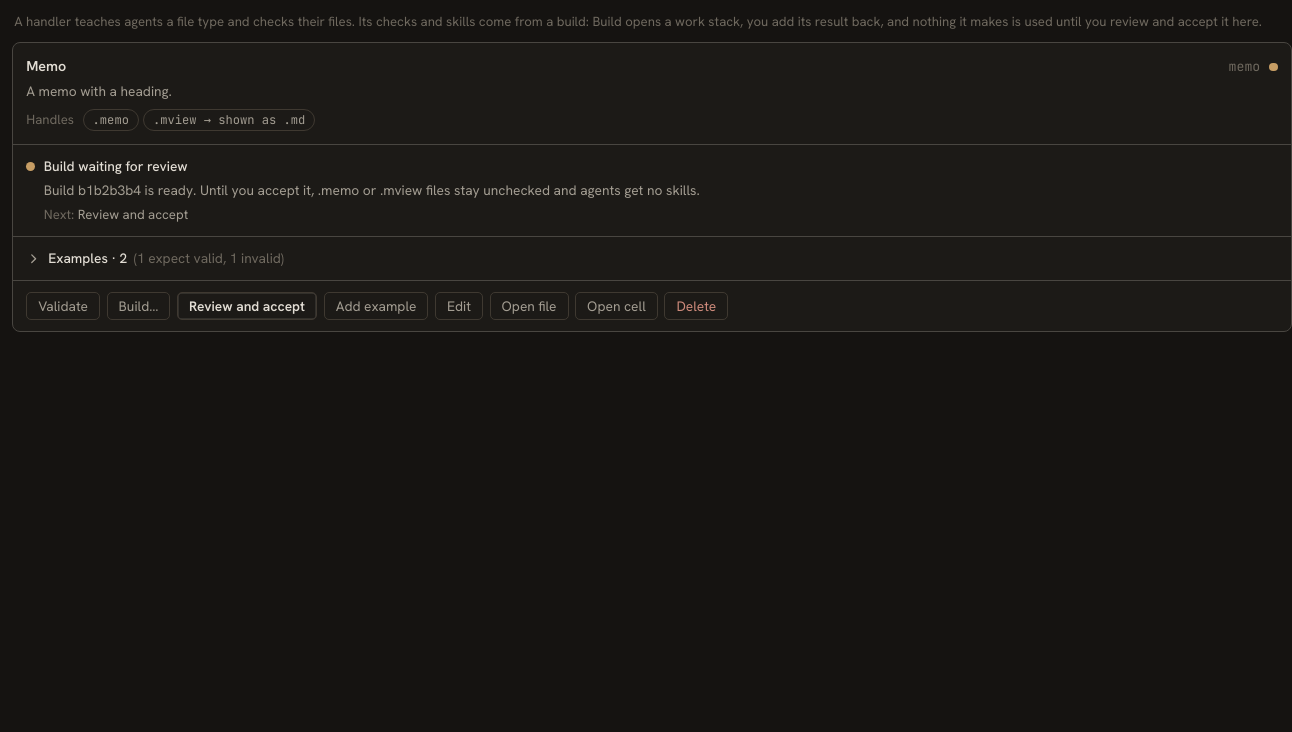
Test: A user handler’s card › Review and accept shows the waiting build and accepts exactly what it inspected
Expected: the element named "Memo handler" is shown, [12,42,1291,332]
Click the button "Review and accept" at (247, 306), box [177,292,317,320]
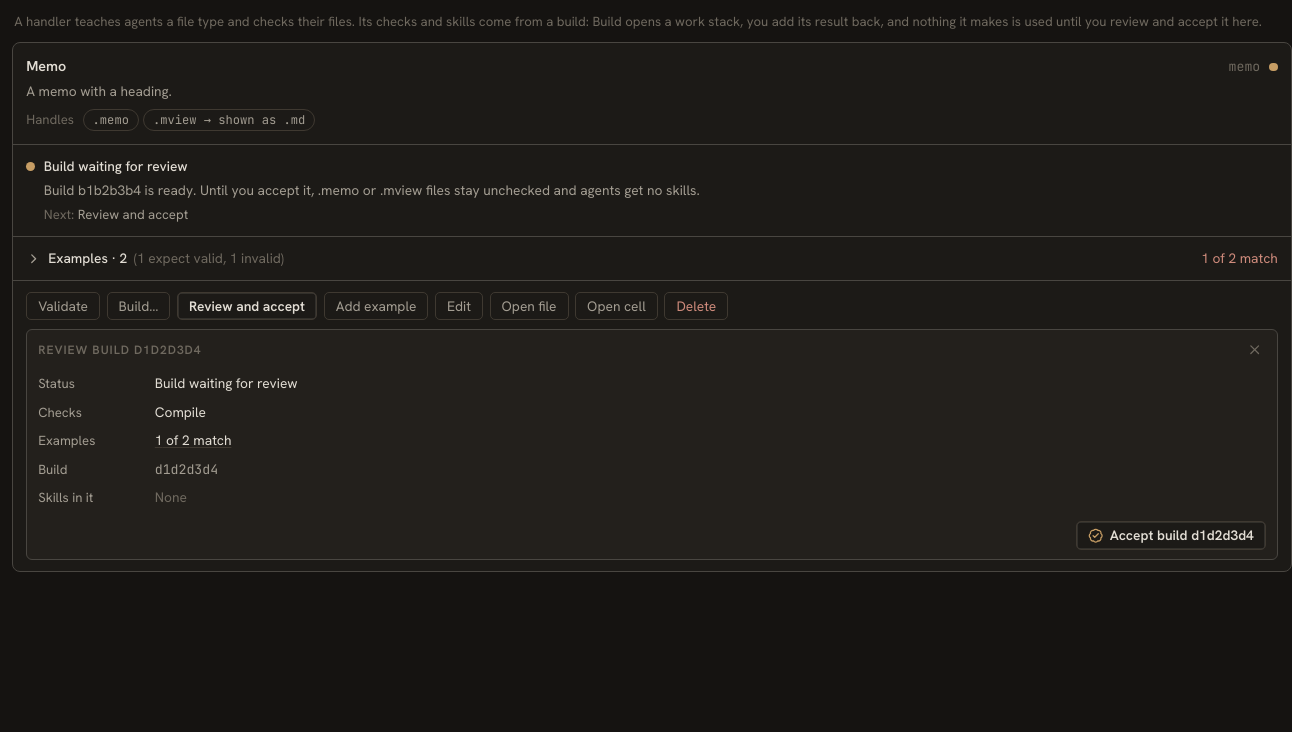
Expected: the text "Build waiting for review" next to "Status" is shown, [155,374,298,392]
Expected: the text "Compile" is shown, [155,402,206,420]
Click the button "1 of 2 match" at (193, 440), box [155,430,231,451]
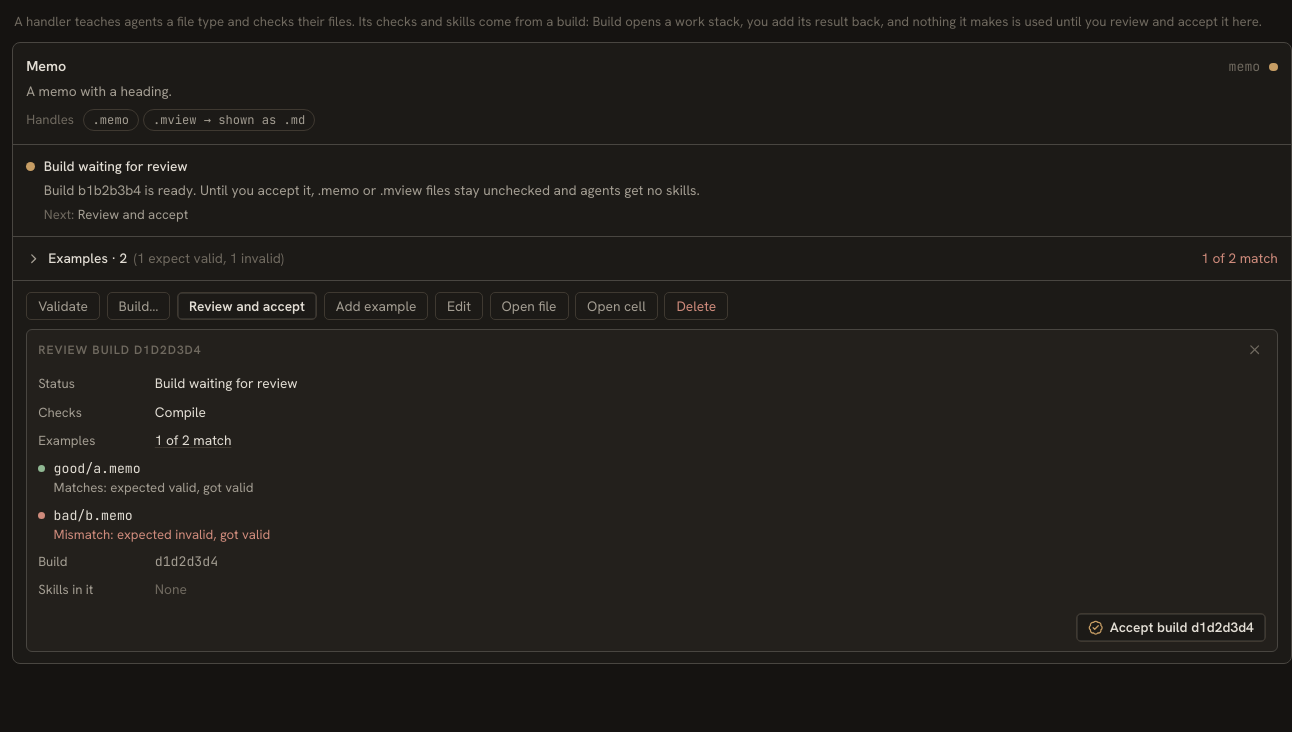
Click the button "Accept build d1d2d3d4" at (1171, 628), box [1076,613,1266,642]
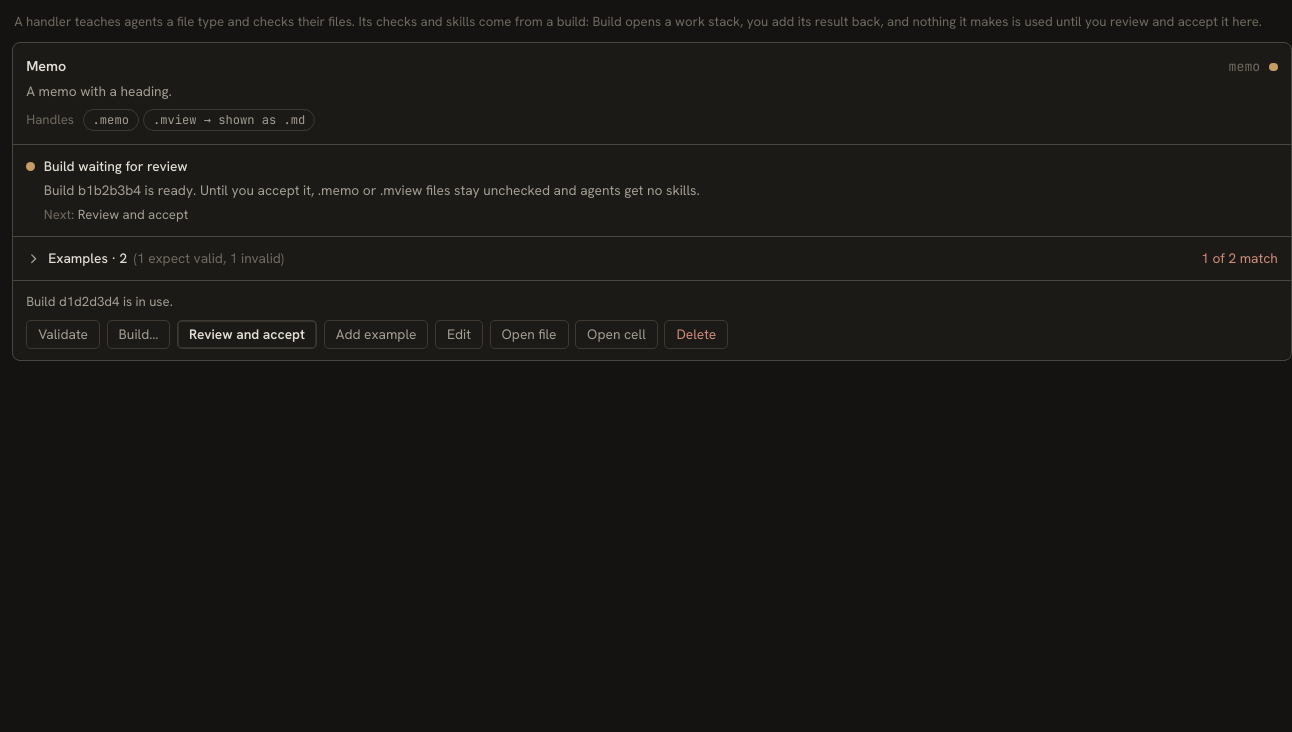
Expected: the message reads "Build d1d2d3d4 is in use.", [26,293,173,310]
